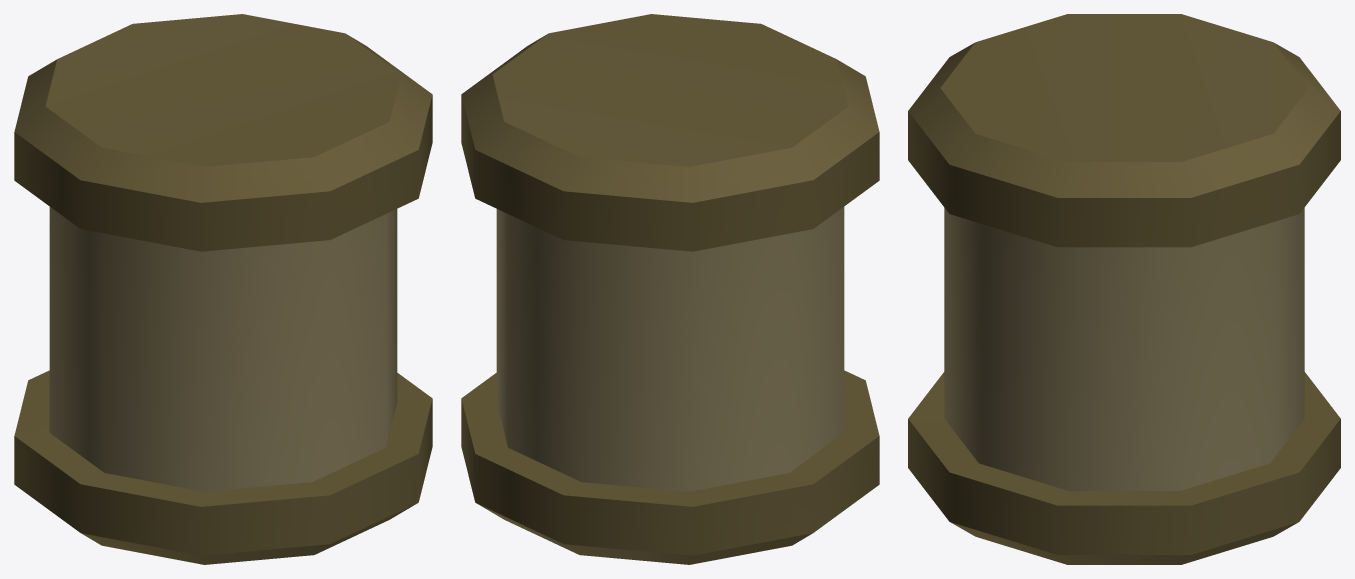
File: SM_PipiS_04.fbx
3 renders of one model, left to right at view 1: azimuth 30°, elevation 25°; view 2: azimuth 150°, elevation 25°; view 3: azimuth 270°, elevation 25°, orthographic.
Parts seen in each view (by area): view 1: SM_PipiS_04; view 2: SM_PipiS_04; view 3: SM_PipiS_04.
Part boxes in pixels (left/top/right/bottom): SM_PipiS_04: left=14, top=14, right=432, bottom=564; SM_PipiS_04: left=461, top=14, right=879, bottom=564; SM_PipiS_04: left=908, top=14, right=1340, bottom=564.
Bounding box in the file's own units: 0.1236 × 0.13 × 0.1335.
